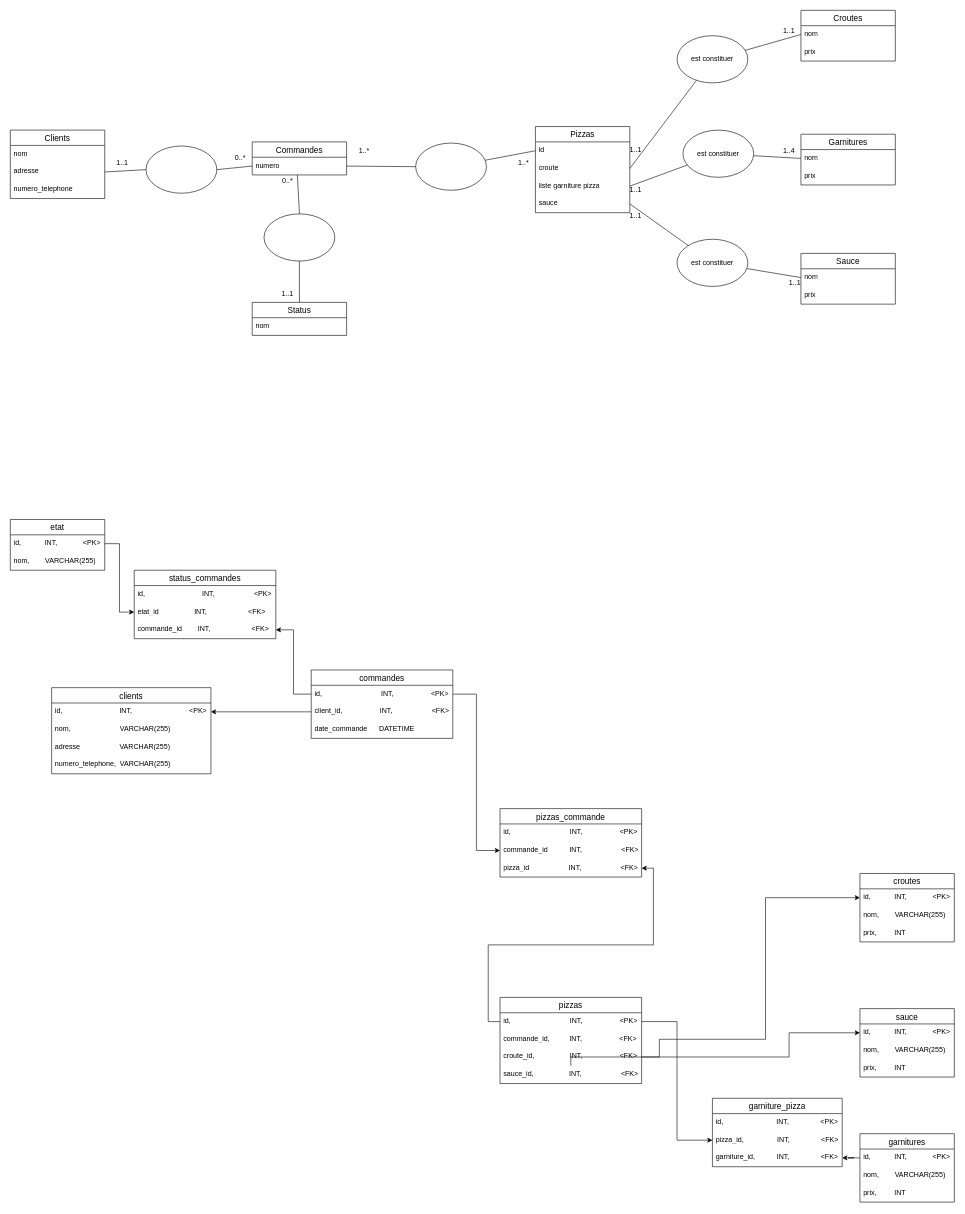
Some shapes in this 965 by 1214 pixel diagram are drawn without their labels. The centre of each missing label's shape, as x and y in pixels:
Nécéssite: the point at 450,166
Ont: the point at 299,237
Passe: the point at 181,169
